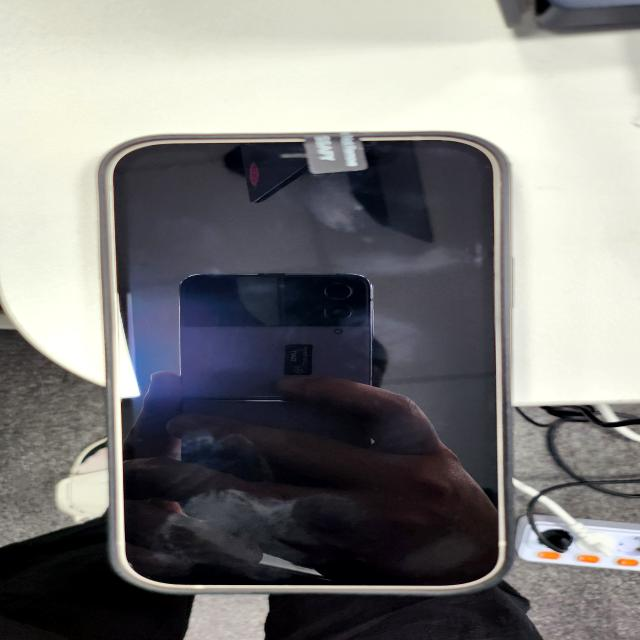phone: (91, 135, 516, 594)
sticker: (296, 134, 374, 176)
